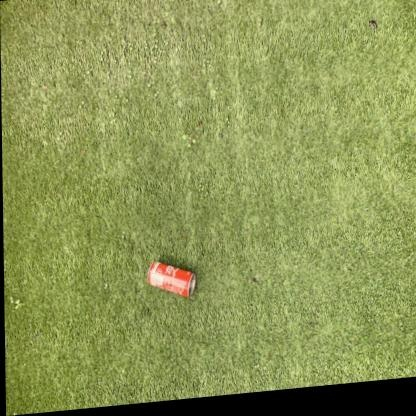trash: (147, 261, 195, 297)
